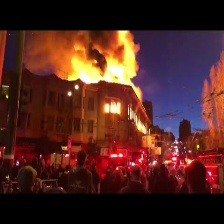fire: (77, 61, 140, 88), (103, 99, 125, 117)
smoke: (19, 31, 152, 62)
